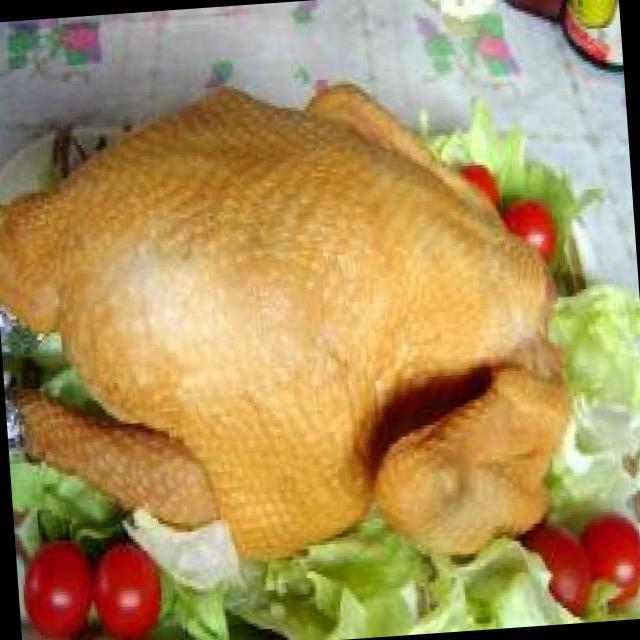Chicken: (0, 49, 567, 553)
